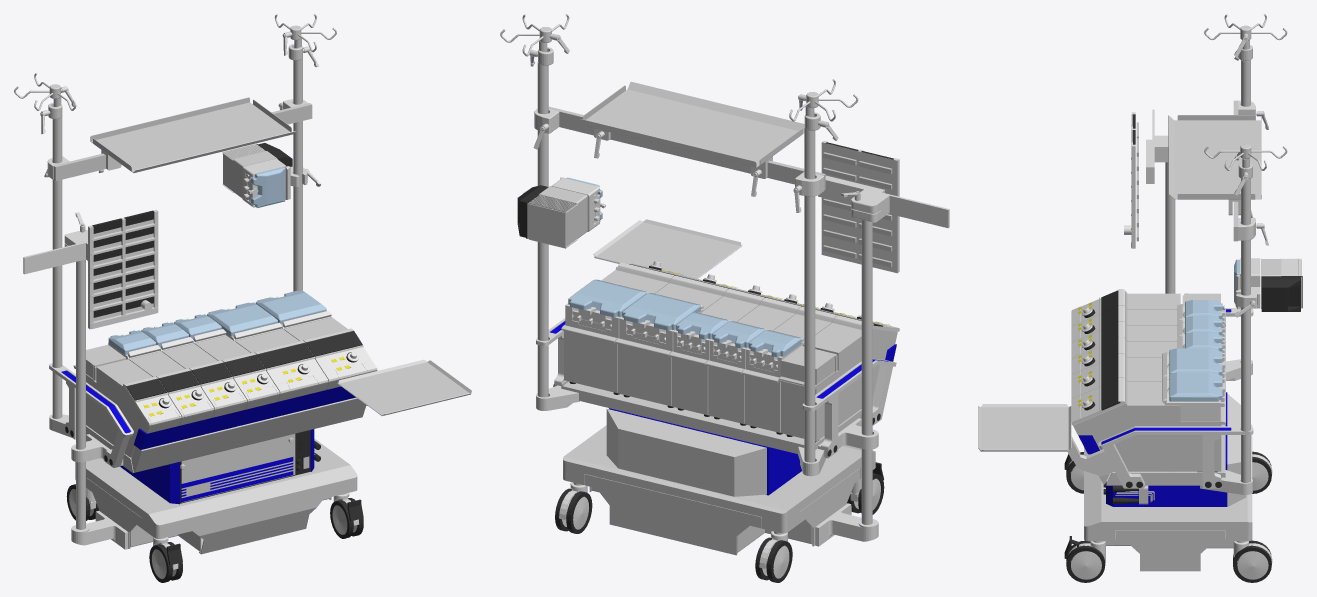
Rendered from mera-layer.glb.
The picture shows the model from 3 angles, left to right: view 1: azimuth 30°, elevation 25°; view 2: azimuth 150°, elevation 25°; view 3: azimuth 270°, elevation 25°; orthographic projection. The views are drawn at different scales.
Visible parts, largest first — view 1: STL-06_SHS-HL, STL-01_almi, STL-04_GrayD, STL-02_blue, STL-03_glass, STL-07_SUS-MG, STL-08_White; view 2: STL-06_SHS-HL, STL-01_almi, STL-03_glass, STL-04_GrayD, STL-07_SUS-MG, STL-05_GrayR, STL-08_White, STL-02_blue; view 3: STL-06_SHS-HL, STL-01_almi, STL-04_GrayD, STL-03_glass, STL-02_blue, STL-08_White, STL-07_SUS-MG.
Part boxes in pixels (box(x1,y1,x2,y2)): STL-06_SHS-HL: box(52, 38, 471, 554); STL-01_almi: box(23, 99, 377, 549); STL-04_GrayD: box(65, 143, 363, 582); STL-02_blue: box(61, 370, 355, 504); STL-03_glass: box(108, 167, 326, 354); STL-07_SUS-MG: box(14, 14, 336, 469); STL-08_White: box(69, 488, 359, 578); STL-06_SHS-HL: box(527, 41, 897, 555); STL-01_almi: box(528, 109, 949, 546); STL-03_glass: box(567, 177, 801, 357); STL-04_GrayD: box(517, 142, 894, 582); STL-07_SUS-MG: box(500, 14, 860, 212); STL-05_GrayR: box(778, 152, 892, 387); STL-08_White: box(559, 478, 880, 578); STL-02_blue: box(550, 321, 896, 495); STL-06_SHS-HL: box(978, 40, 1301, 571); STL-01_almi: box(1068, 100, 1301, 494); STL-04_GrayD: box(1064, 114, 1302, 582); STL-03_glass: box(1169, 259, 1239, 401); STL-02_blue: box(1078, 309, 1231, 506); STL-08_White: box(1068, 305, 1272, 579); STL-07_SUS-MG: box(1115, 14, 1287, 502).
Bounding box in the file's own units: 1.36 × 1.58 × 1.04.
